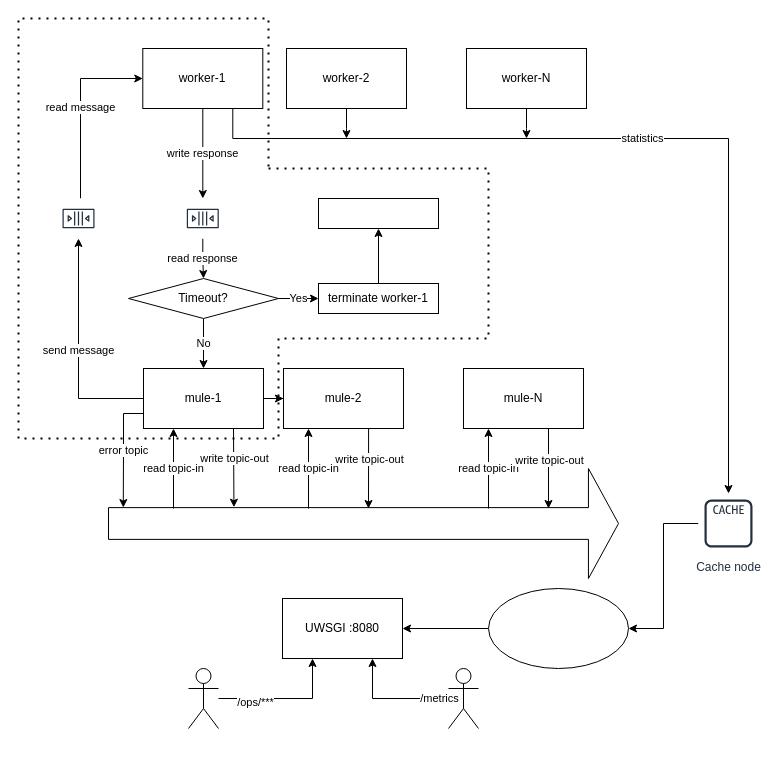
Some shapes in this 778 by 766 pixel diagram are drawn without their labels. Each missing label, with the centre of its shape:
create worker-1: [378,213]
Infra: [203,698]
Kafka topics: [363,523]
Prometheus: [463,698]
Prometheus Collector: [558,628]
